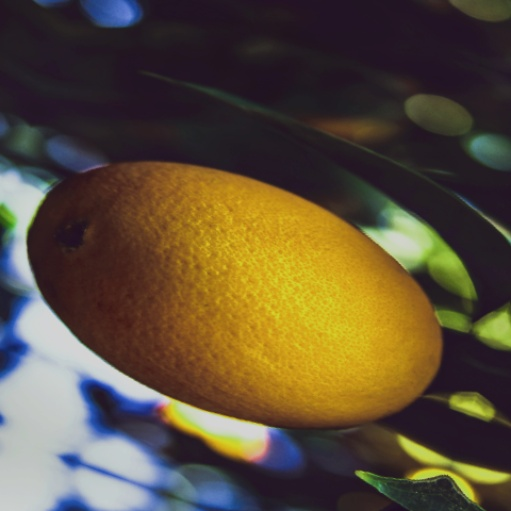orange: (0, 85, 493, 511)
